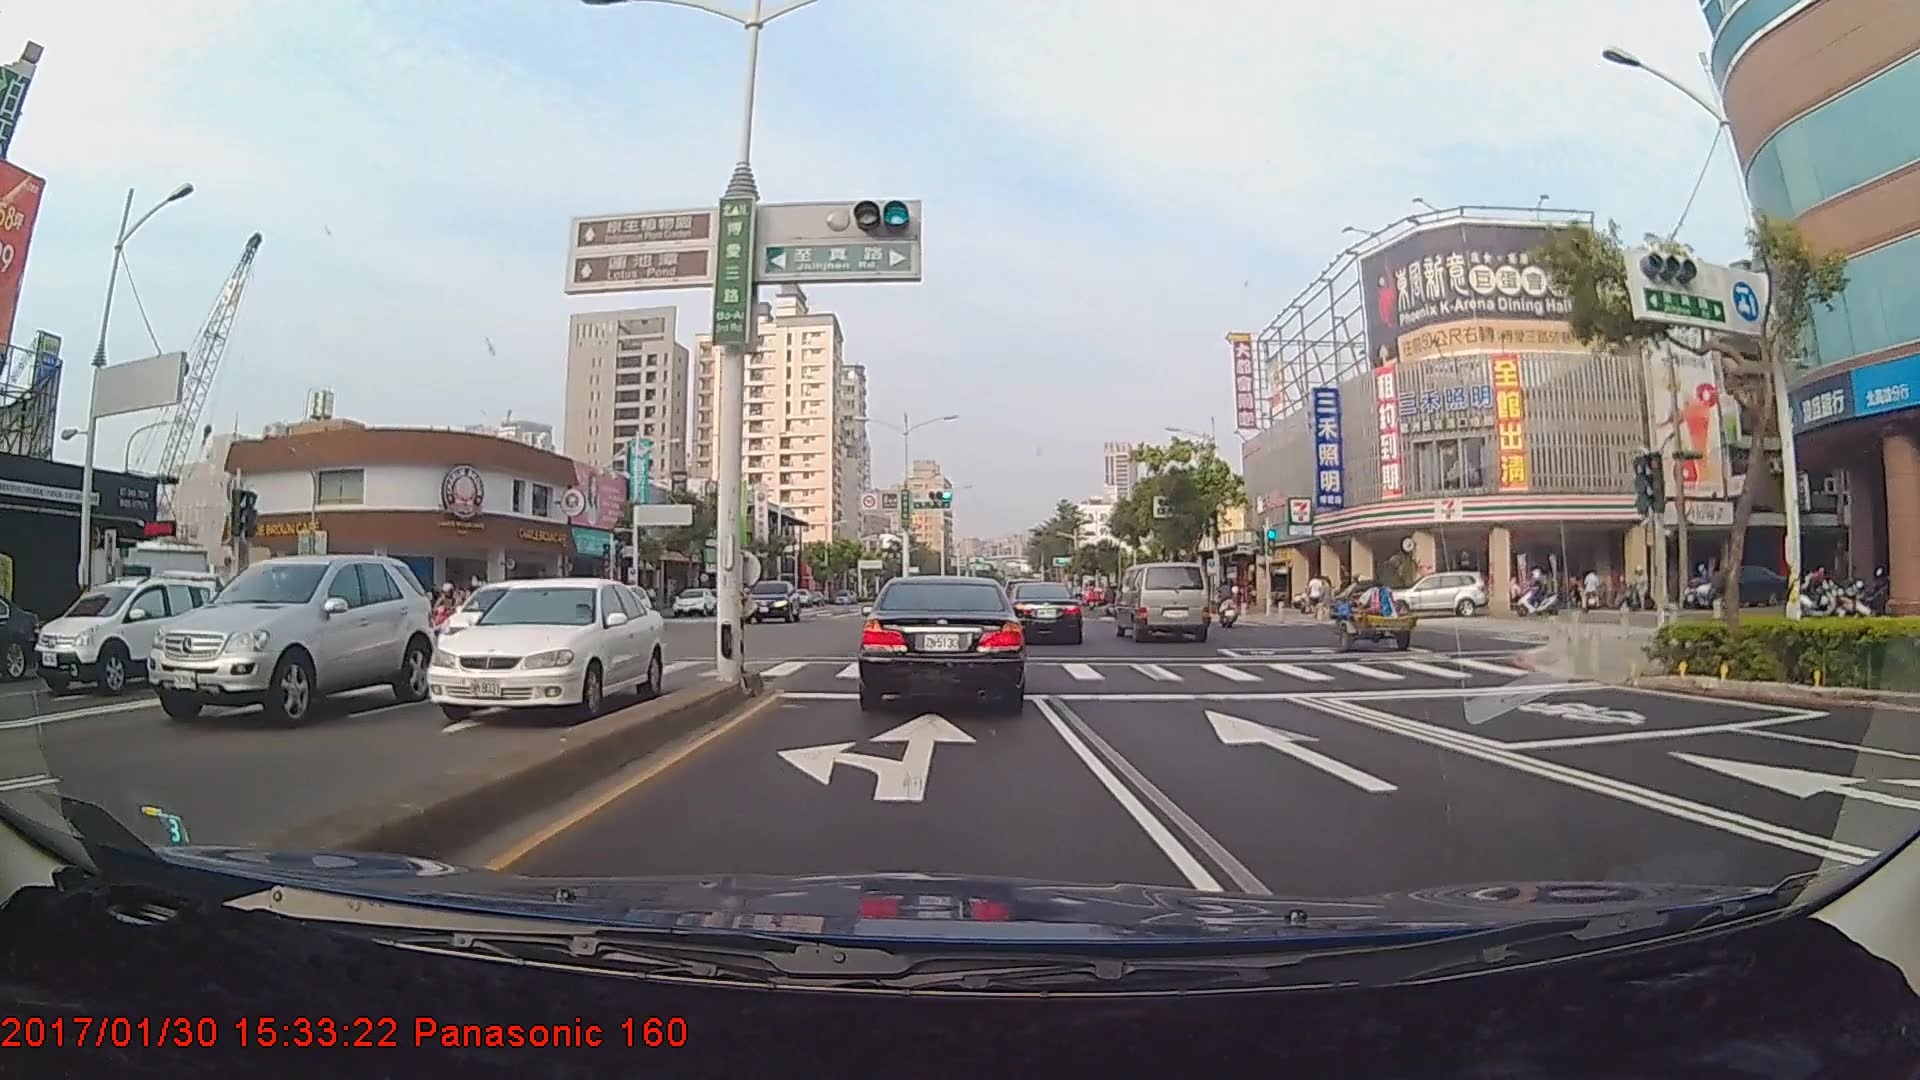pedestrian: (1306, 572, 1326, 621)
rider: (425, 581, 470, 642), (1210, 580, 1245, 633)
vehicle: (143, 551, 439, 725), (411, 574, 671, 724), (30, 569, 222, 703), (860, 573, 1026, 712), (1116, 561, 1210, 643), (1010, 581, 1083, 644), (1401, 570, 1489, 619), (0, 589, 37, 677), (740, 579, 800, 623), (670, 587, 714, 617)
